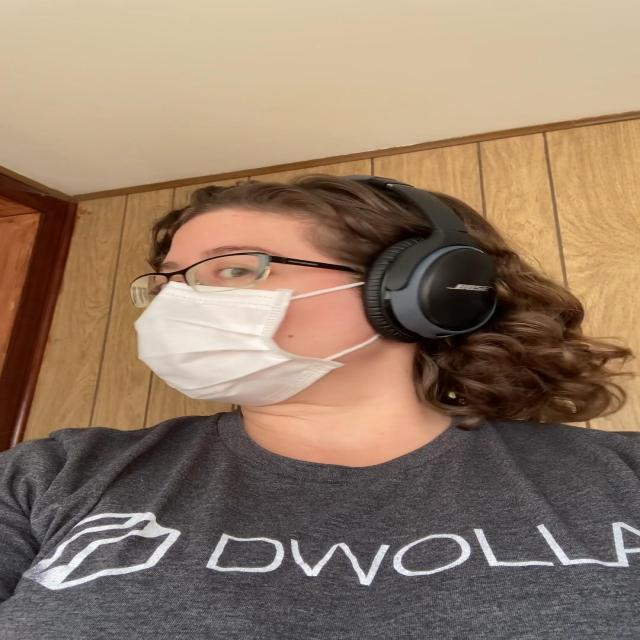no-helmet: (134, 204, 353, 406)
